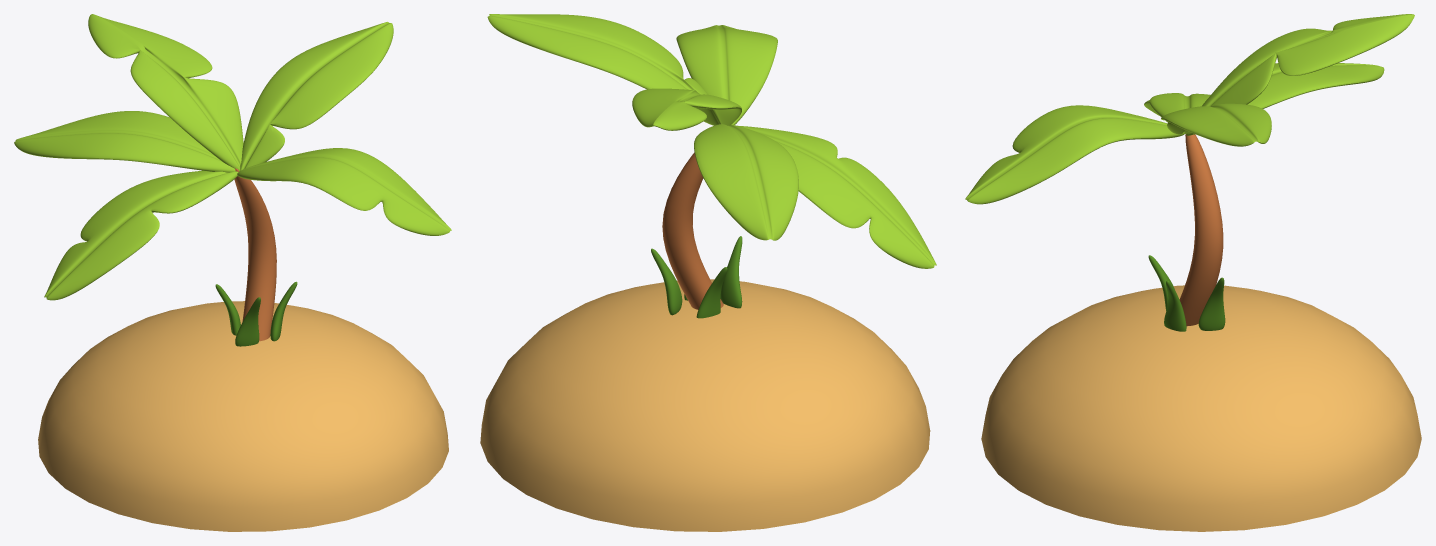
File: island.fbx
3 renders of one model, left to right at view 1: azimuth 30°, elevation 25°; view 2: azimuth 150°, elevation 25°; view 3: azimuth 270°, elevation 25°, orthographic. The views are drawn at different scales.
Parts seen in each view (by area): view 1: island; view 2: island; view 3: island.
Part boxes in pixels (<box>): island: <box>14,14,451,531</box>; island: <box>480,14,936,531</box>; island: <box>965,14,1421,531</box>.
Size of the model in its own units: 805 by 748 by 779.
